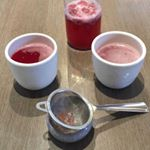cups: (88, 28, 149, 92), (2, 31, 61, 93)
